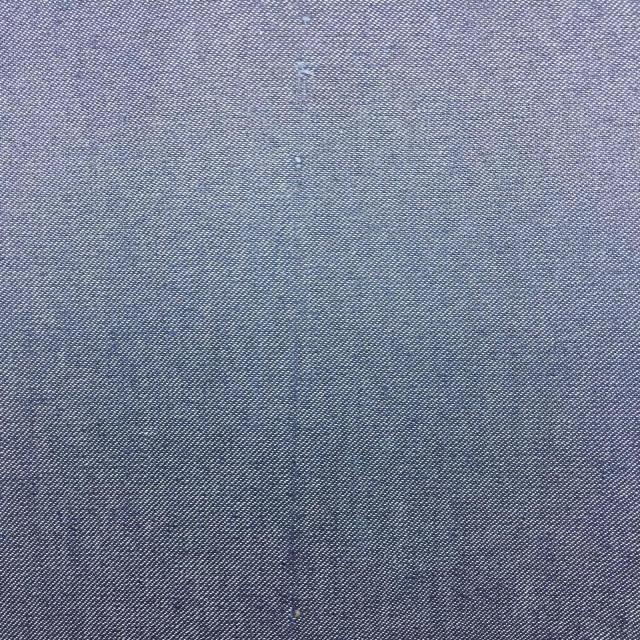Knot: (291, 59, 316, 108), (288, 151, 308, 174), (299, 13, 315, 26)
Line: (278, 298, 304, 640)
